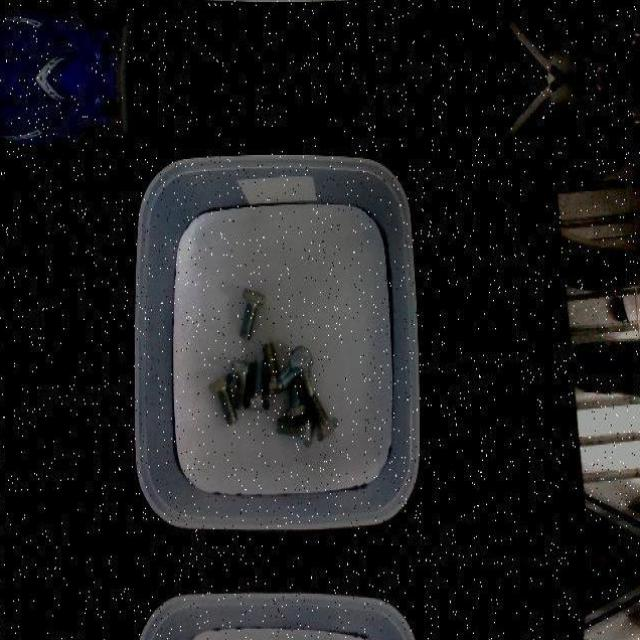screw: (210, 371, 240, 426), (308, 392, 340, 441), (244, 357, 270, 411), (238, 288, 266, 338), (230, 359, 256, 410), (276, 415, 316, 445), (291, 344, 314, 395)
